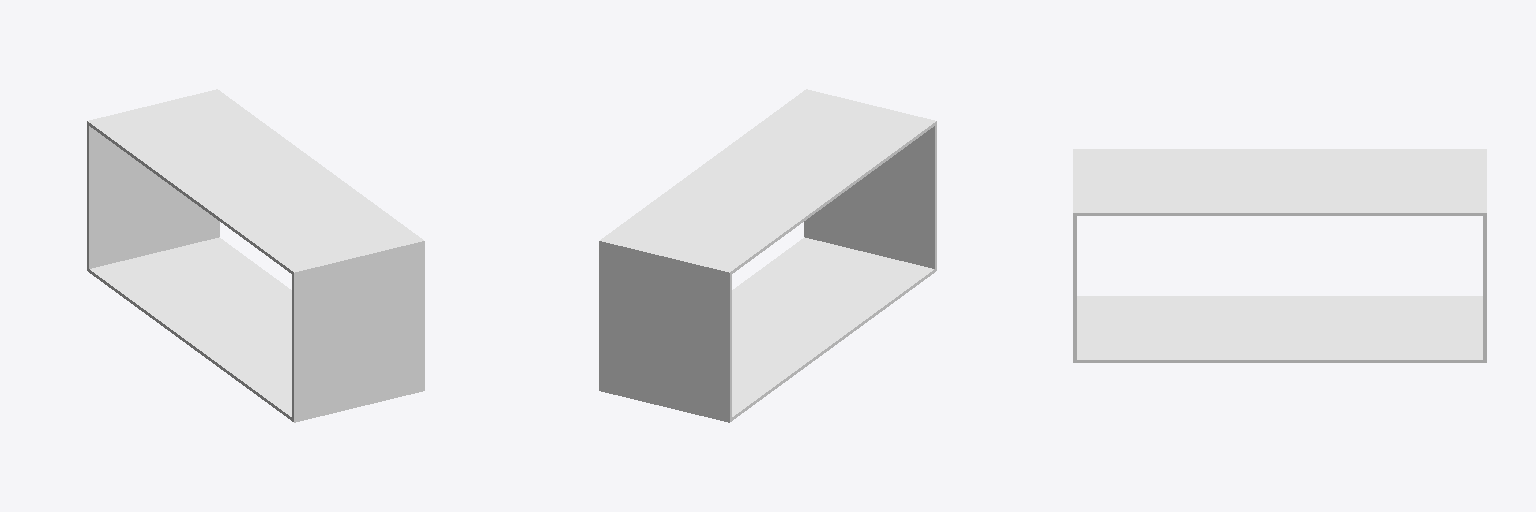
File: Project1day-7.obj
3 renders of one model, left to right at view 1: azimuth 30°, elevation 25°; view 2: azimuth 150°, elevation 25°; view 3: azimuth 270°, elevation 25°, orthographic.
Visible parts, largest first — view 1: object 1; view 2: object 1; view 3: object 1.
Part boxes in pixels (x1,y1,x2,y2): object 1: (87, 89, 424, 422); object 1: (599, 89, 936, 422); object 1: (1073, 149, 1486, 362).
Size of the model in its own units: 4 by 4.4 by 11.